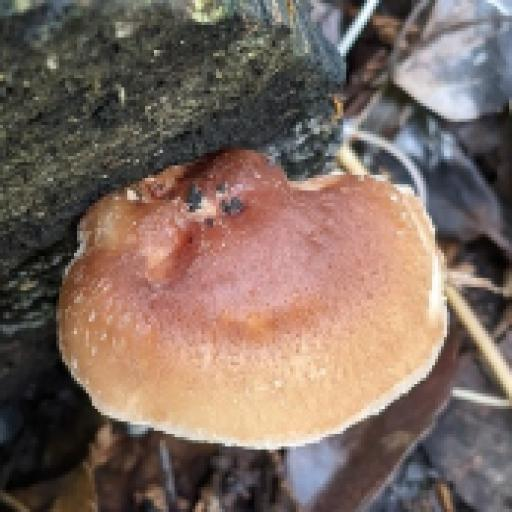Shiitake Mushroom: (67, 143, 450, 444)
